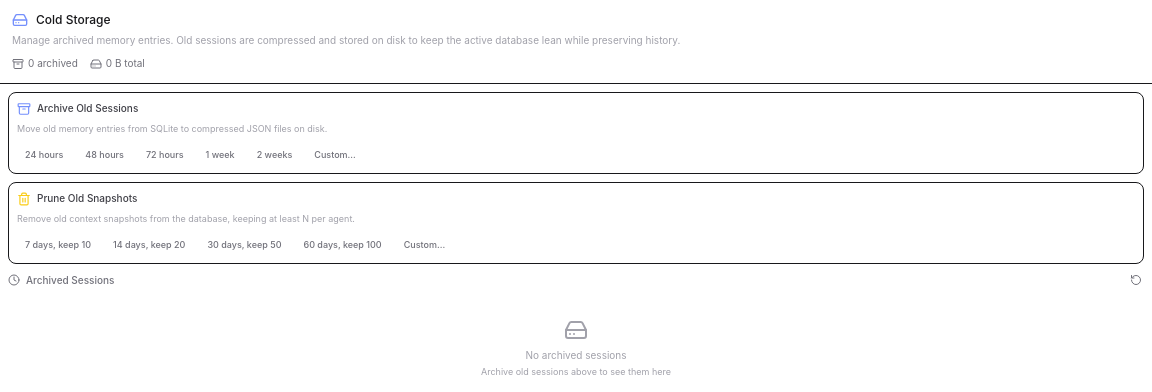
ColdStoragePanel › archive actions › disables archive buttons while archiving
Step 1. Click the button "24 hours" → (44, 155), box [17,144,71,165]
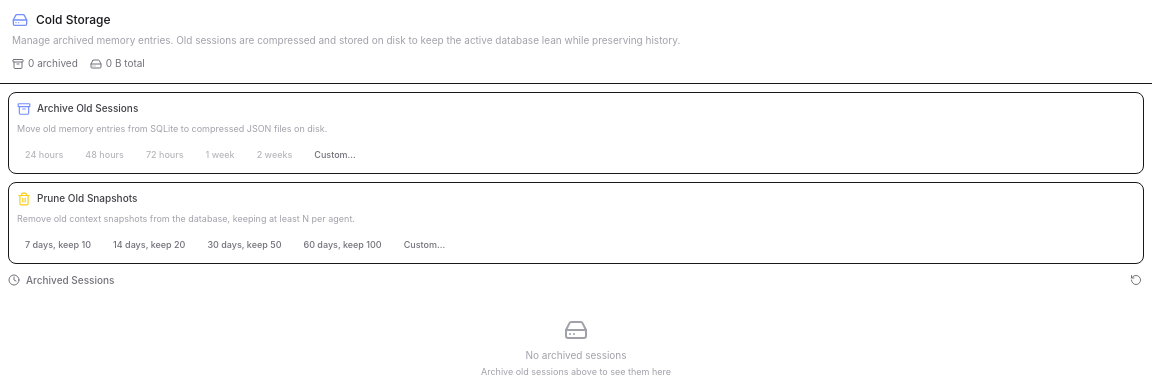
Check: the button "24 hours" is disabled, box [17,144,71,165]
